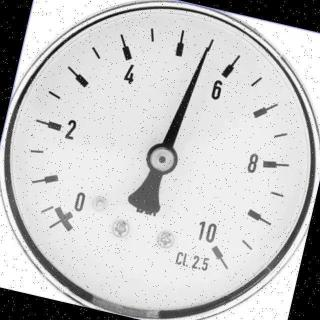gauge: (0, 0, 320, 320), (43, 198, 82, 242), (201, 236, 236, 272), (145, 142, 179, 174), (200, 42, 214, 56)
